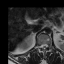CCS_normal: (43, 41, 45, 51)
LFS_normal: (48, 41, 50, 49)
LLS_normal: (45, 41, 48, 50)
RFS_normal: (38, 42, 40, 50)
RLS_normal: (40, 41, 43, 50)
